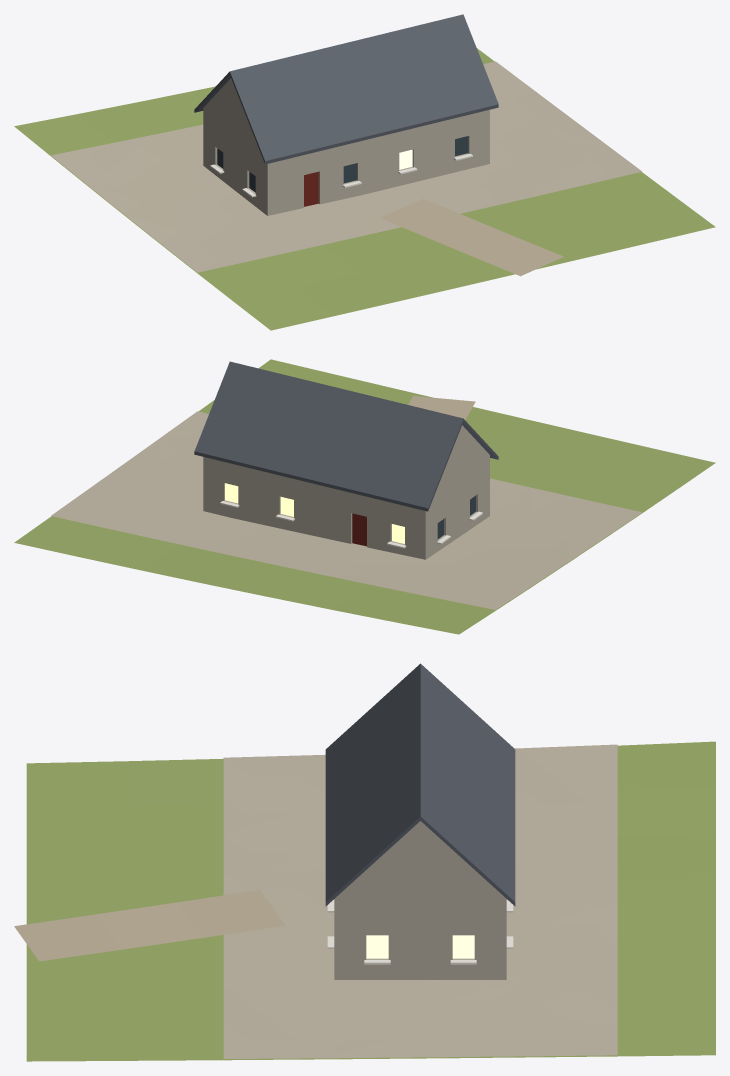
File: old_school-evening.glb
3 views of the same model, one above another, from view 1: azimuth 30°, elevation 25°; view 2: azimuth 150°, elevation 25°; view 3: azimuth 270°, elevation 25° (orthographic). The views are drawn at different scales.
Parts seen in each view (by area): view 1: ground_areas, ground, cut_roof_old_school, old_school_shell, ground_lanes, old_school_walls; view 2: ground_areas, ground, cut_roof_old_school, old_school_shell, old_school_walls, ground_lanes; view 3: ground, ground_areas, cut_roof_old_school, old_school_shell, ground_lanes, old_school_walls.
Part boxes in pixels (x1,y1,x2,y2): ground_areas: (51, 61, 641, 272); ground: (14, 48, 715, 330); cut_roof_old_school: (194, 14, 498, 164); old_school_shell: (203, 78, 489, 215); ground_lanes: (380, 198, 563, 276); old_school_walls: (210, 136, 472, 206); ground_areas: (51, 411, 641, 609); ground: (14, 359, 715, 634); cut_roof_old_school: (194, 361, 498, 511); old_school_shell: (203, 425, 489, 559); old_school_walls: (220, 483, 482, 548); ground_lanes: (408, 396, 475, 419); ground: (26, 741, 715, 1061); ground_areas: (223, 744, 617, 1058); cut_roof_old_school: (325, 663, 515, 906); old_school_shell: (334, 821, 506, 979); ground_lanes: (14, 890, 285, 961); old_school_walls: (327, 900, 513, 964).
Bounding box in the file's own units: 28 × 7.89 × 28.51.
